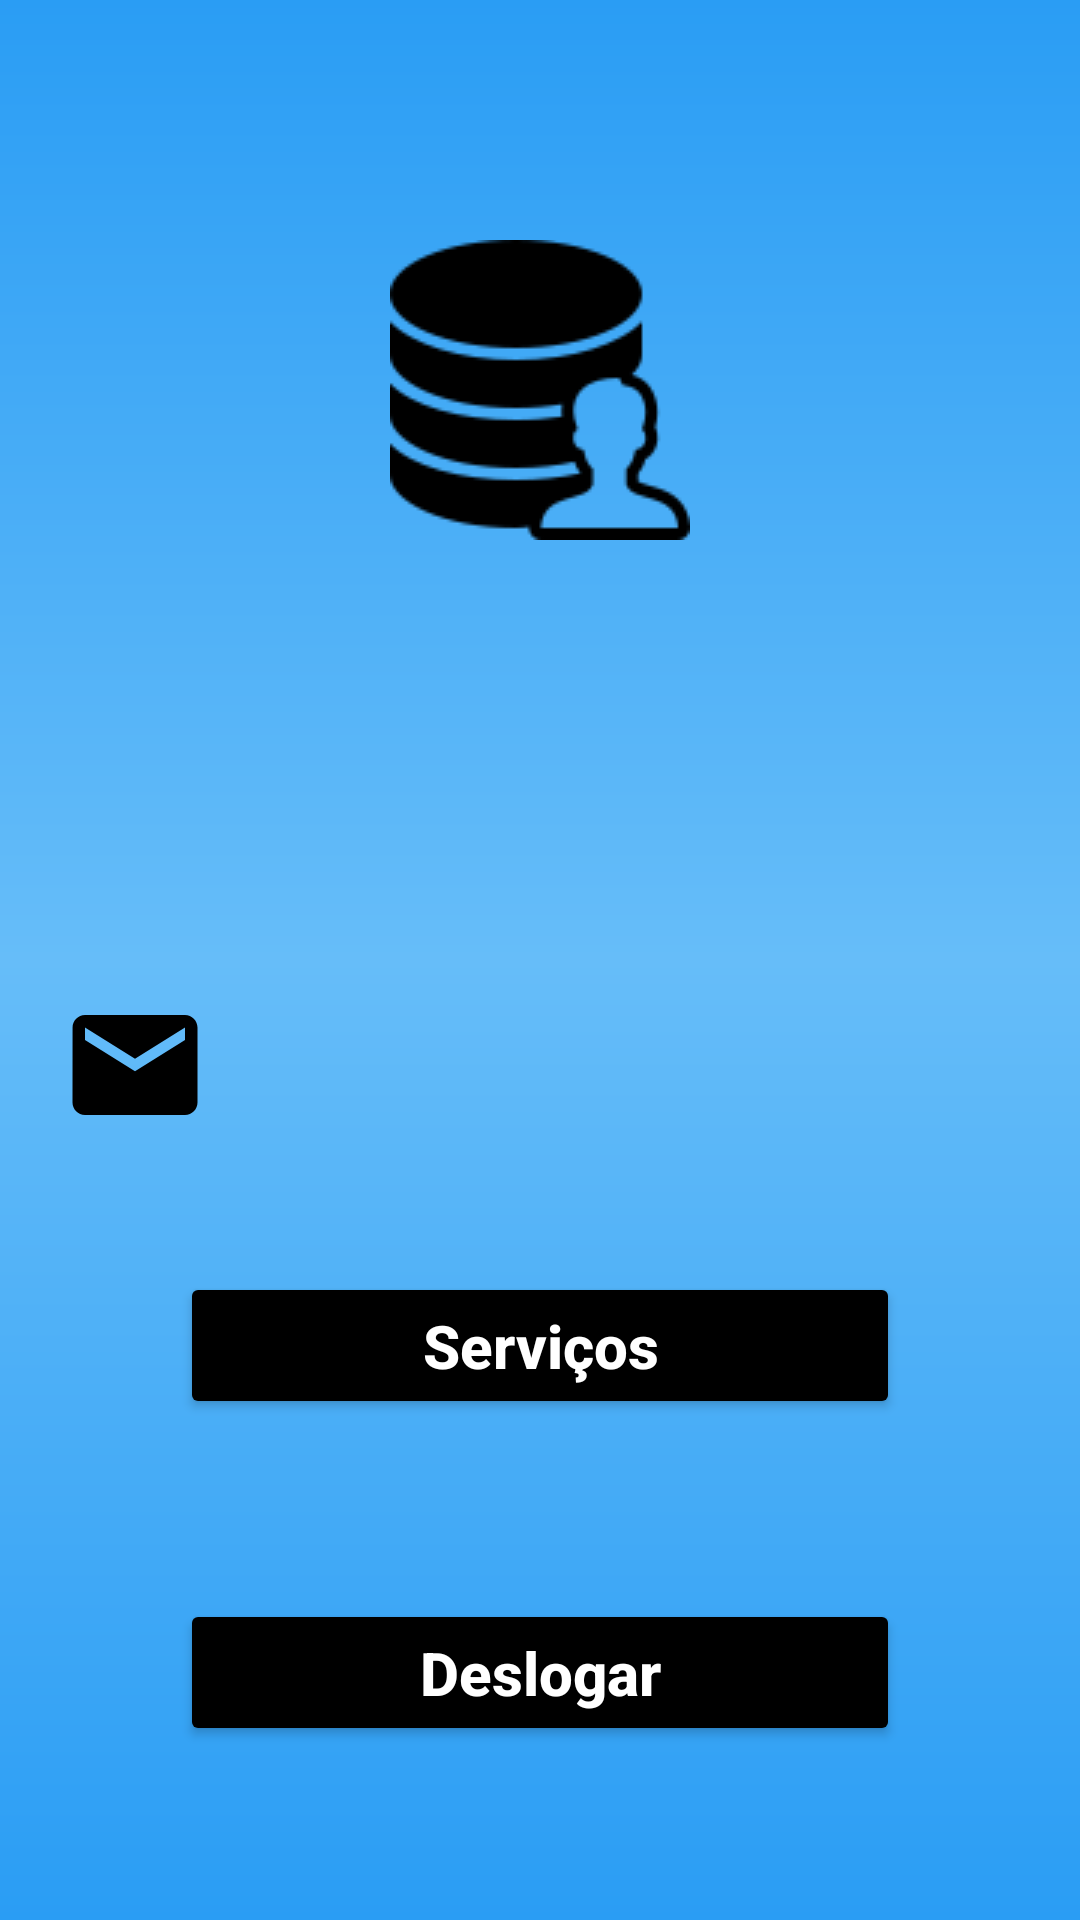

Where icons sit on this 1080 x 1920 app screen, as (x1, y1, x2, y2):
email: (72, 1015, 198, 1115)
